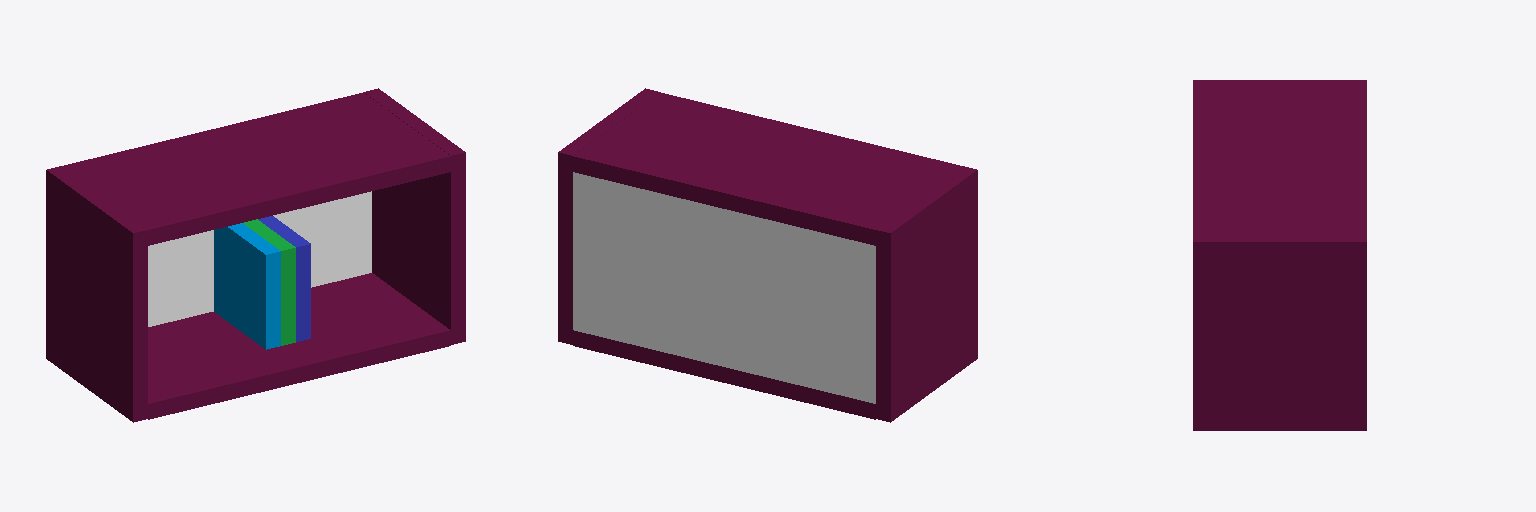
Rendered from bread.obj.
The picture shows the model from 3 angles: view 1: azimuth 30°, elevation 25°; view 2: azimuth 150°, elevation 25°; view 3: azimuth 270°, elevation 25°; orthographic projection.
Parts seen in each view (by area): view 1: Object.6, Object.1, Object.7, Object.8, Object.2, Object.4, Object.3, Object.5; view 2: Object.2, Object.6, Object.7, Object.1, Object.8; view 3: Object.8, Object.6, Object.7.
Boxes of the visible parts, x1=… form: Object.6: x1=62, y1=92, x2=450, y2=245; Object.1: x1=148, y1=273, x2=450, y2=419; Object.7: x1=46, y1=166, x2=147, y2=422; Object.8: x1=364, y1=88, x2=465, y2=344; Object.2: x1=148, y1=191, x2=371, y2=326; Object.4: x1=214, y1=223, x2=280, y2=349; Object.3: x1=243, y1=219, x2=295, y2=345; Object.5: x1=258, y1=216, x2=310, y2=341; Object.2: x1=573, y1=172, x2=875, y2=403; Object.6: x1=573, y1=92, x2=961, y2=245; Object.7: x1=876, y1=166, x2=977, y2=422; Object.1: x1=573, y1=330, x2=875, y2=419; Object.8: x1=558, y1=88, x2=659, y2=344; Object.8: x1=1193, y1=235, x2=1366, y2=430; Object.6: x1=1193, y1=87, x2=1366, y2=234; Object.7: x1=1193, y1=80, x2=1366, y2=86.
Bounding box in the file's own units: 440 × 240 × 200.